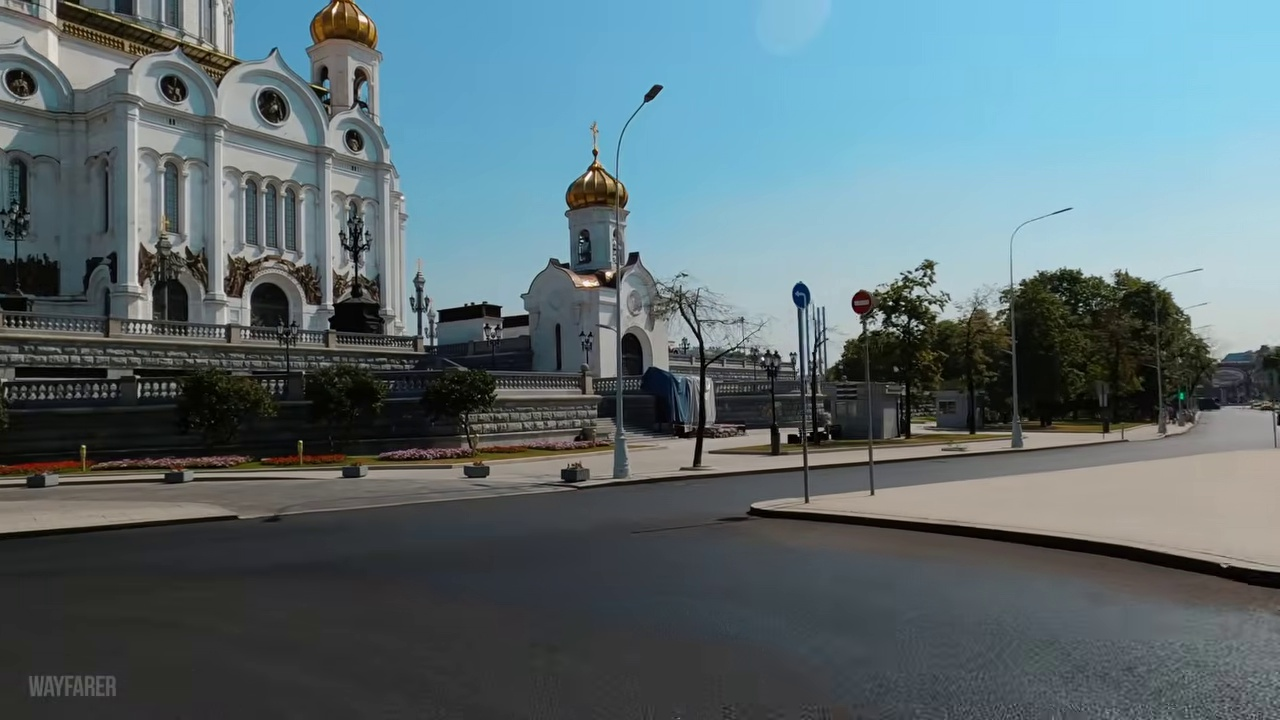apagada: (636, 82, 664, 109), (788, 280, 813, 305), (1048, 203, 1073, 222)
